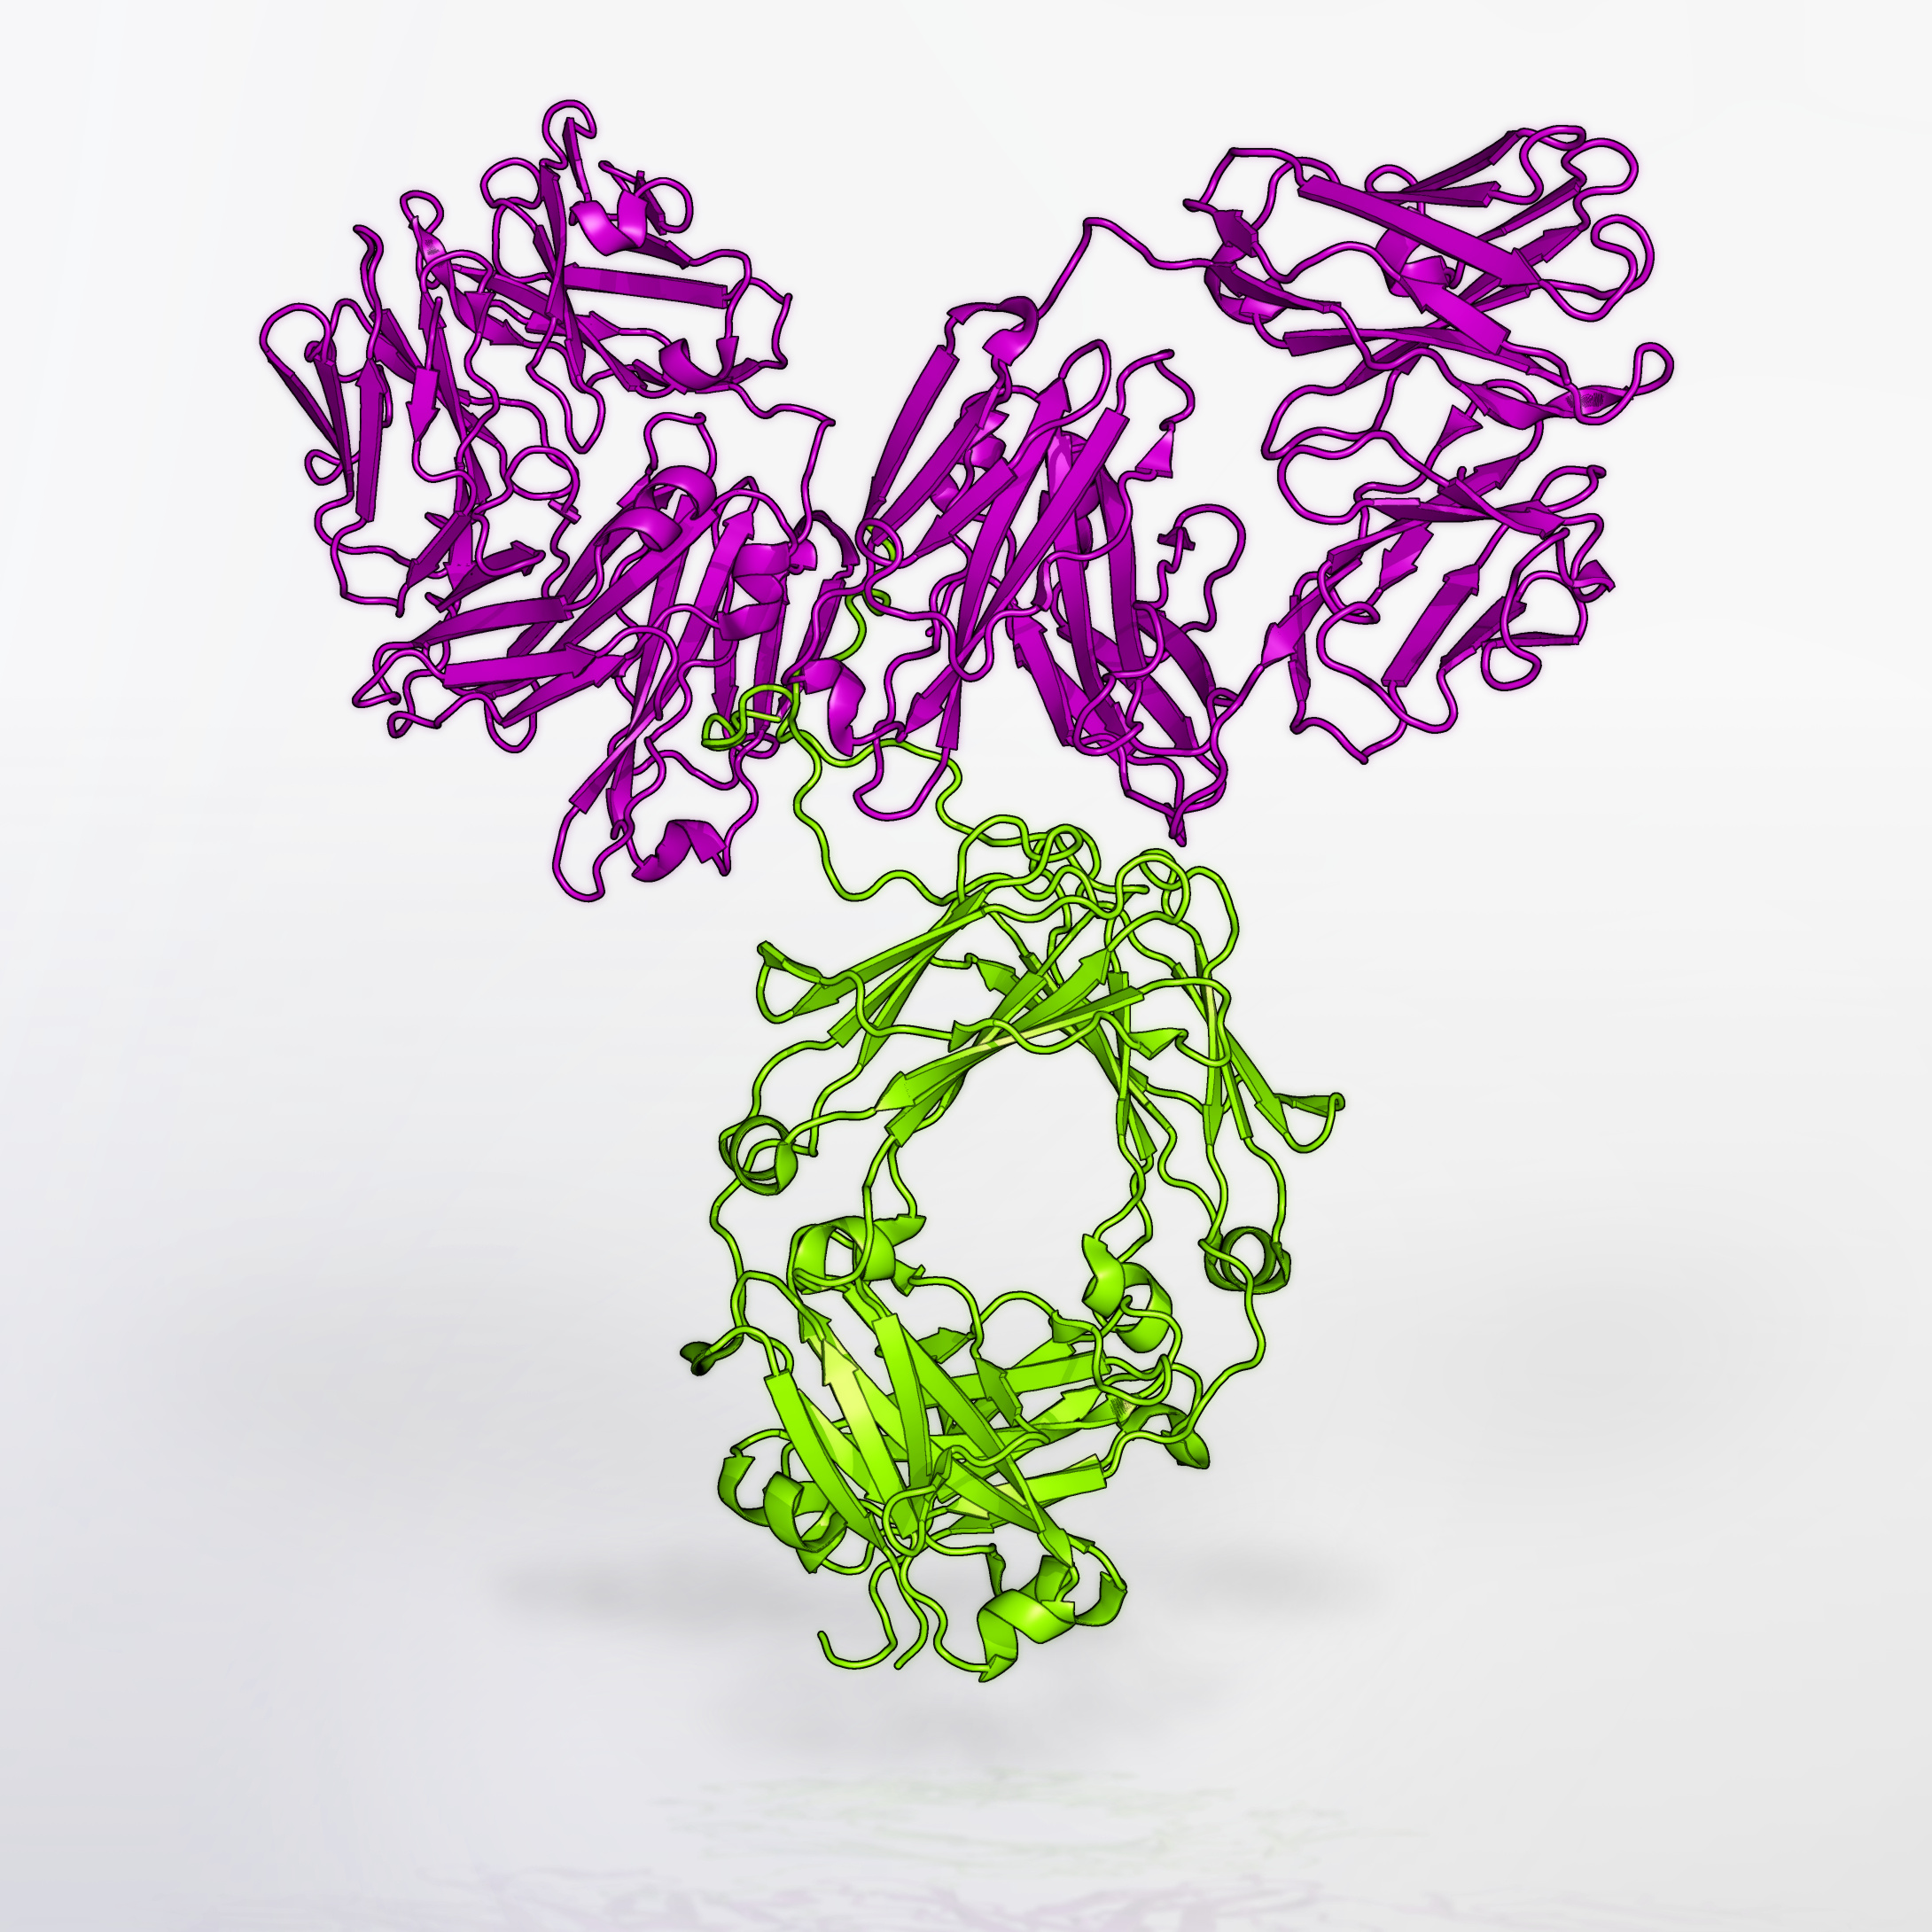COVID19: (232, 81, 1895, 1782)
